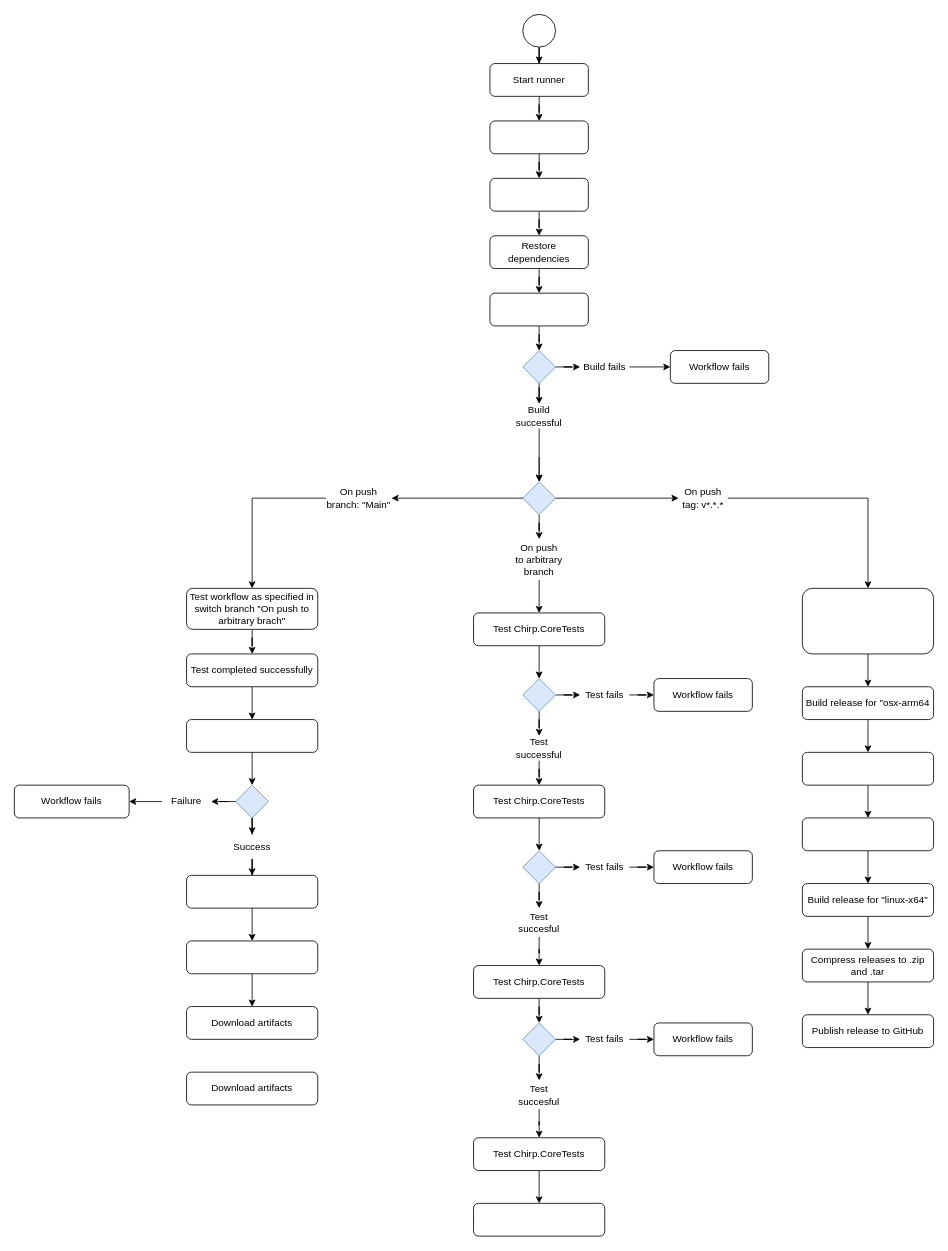
Some shapes in this 948 by 1251 pixel diagram are drawn without their labels. The shapes that lost their labels are listed below. From the top down, each one's centre as x and y in pixels, then its label:
the point at 538,137: Checkout repository
the point at 538,194: Setup .NET
the point at 538,309: Build
the point at 868,621: Declare runtime targets for Linux, Windows and MacOSX Arm and x64
the point at 252,735: Publish for Linux
the point at 868,768: Build release for "osx-x64"
the point at 868,834: Build release for "win-x64"
the point at 252,891: Upload artifacts
the point at 252,957: Start new runner job
the point at 539,1219: Tests completed successfully
